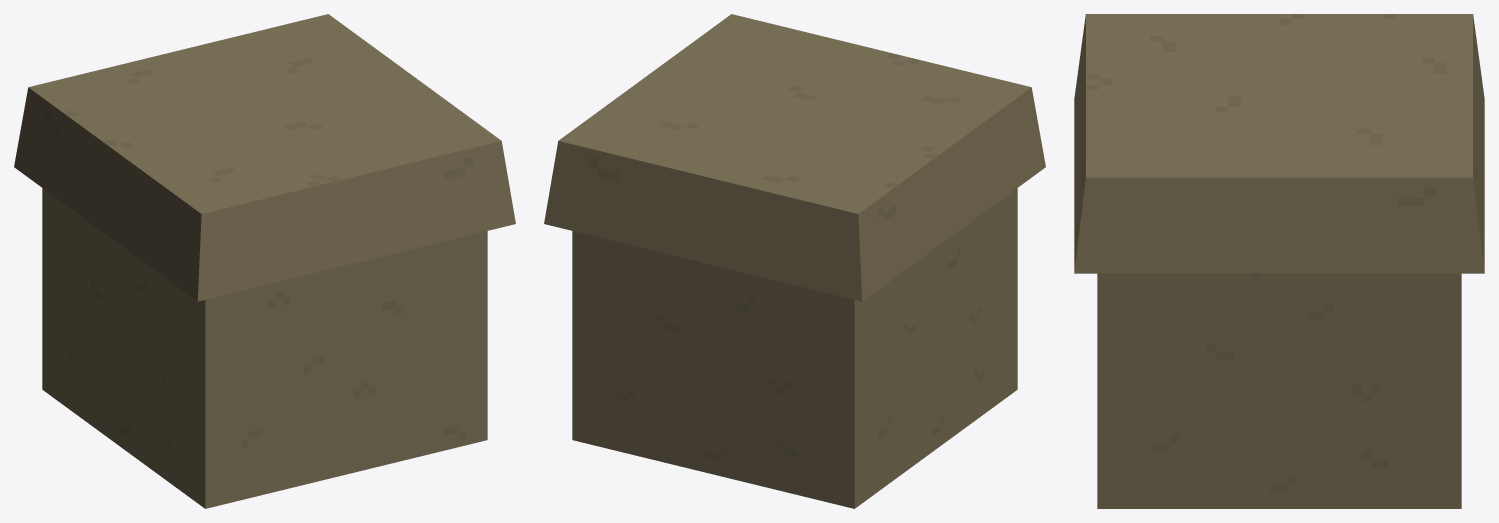
File: GrassBlock 1.fbx
The picture shows the model from 3 angles, left to right: view 1: azimuth 30°, elevation 25°; view 2: azimuth 150°, elevation 25°; view 3: azimuth 270°, elevation 25°; orthographic projection. The views are drawn at different scales.
Parts seen in each view (by area): view 1: Cube.001, Cube; view 2: Cube.001, Cube; view 3: Cube.001, Cube.
Part boxes in pixels (box(x1,y1,x2,y2)): Cube.001: box(14, 14, 515, 301); Cube: box(42, 188, 487, 508); Cube.001: box(544, 14, 1045, 301); Cube: box(572, 188, 1017, 508); Cube.001: box(1074, 14, 1484, 273); Cube: box(1097, 273, 1461, 508).
Size of the model in its own units: 2.26 by 2.04 by 2.26.
